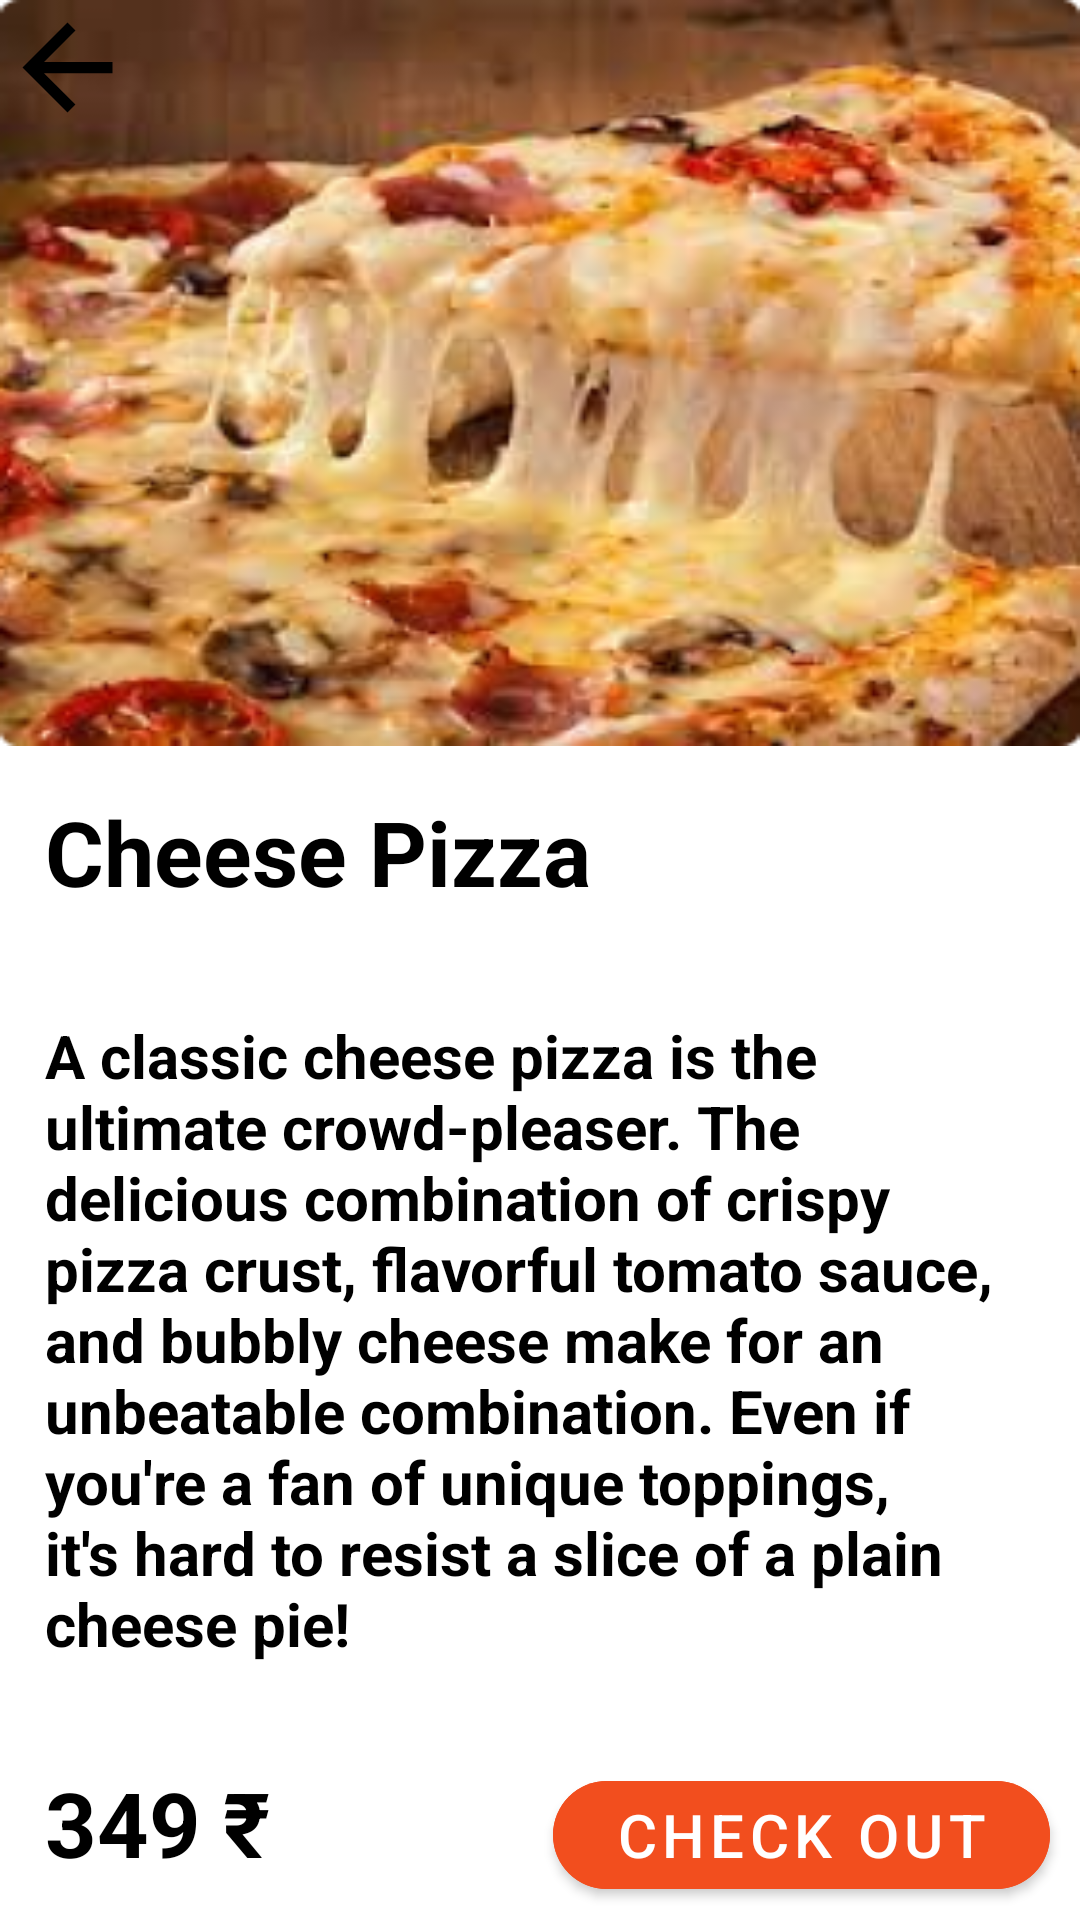

Named icons in this screenshot (1080px x 1920px) and their bounding boxes, (x1, y1, x2, y2):
back: (0, 0, 113, 112)
